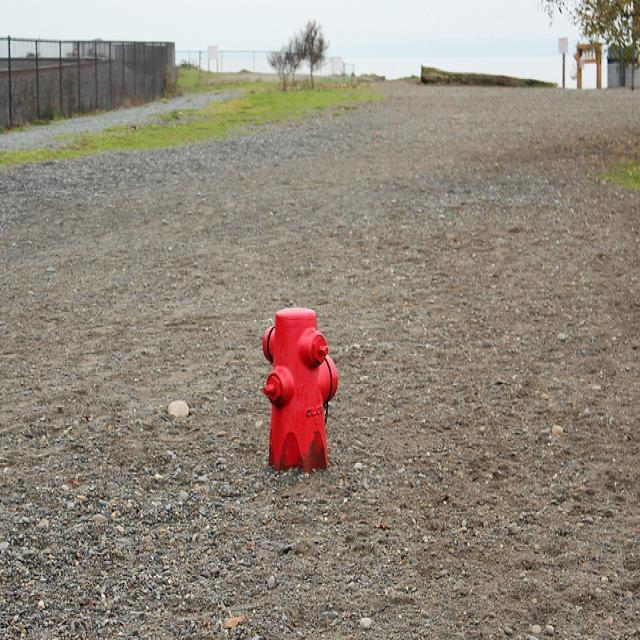fire_hydrant: (262, 306, 338, 474)
